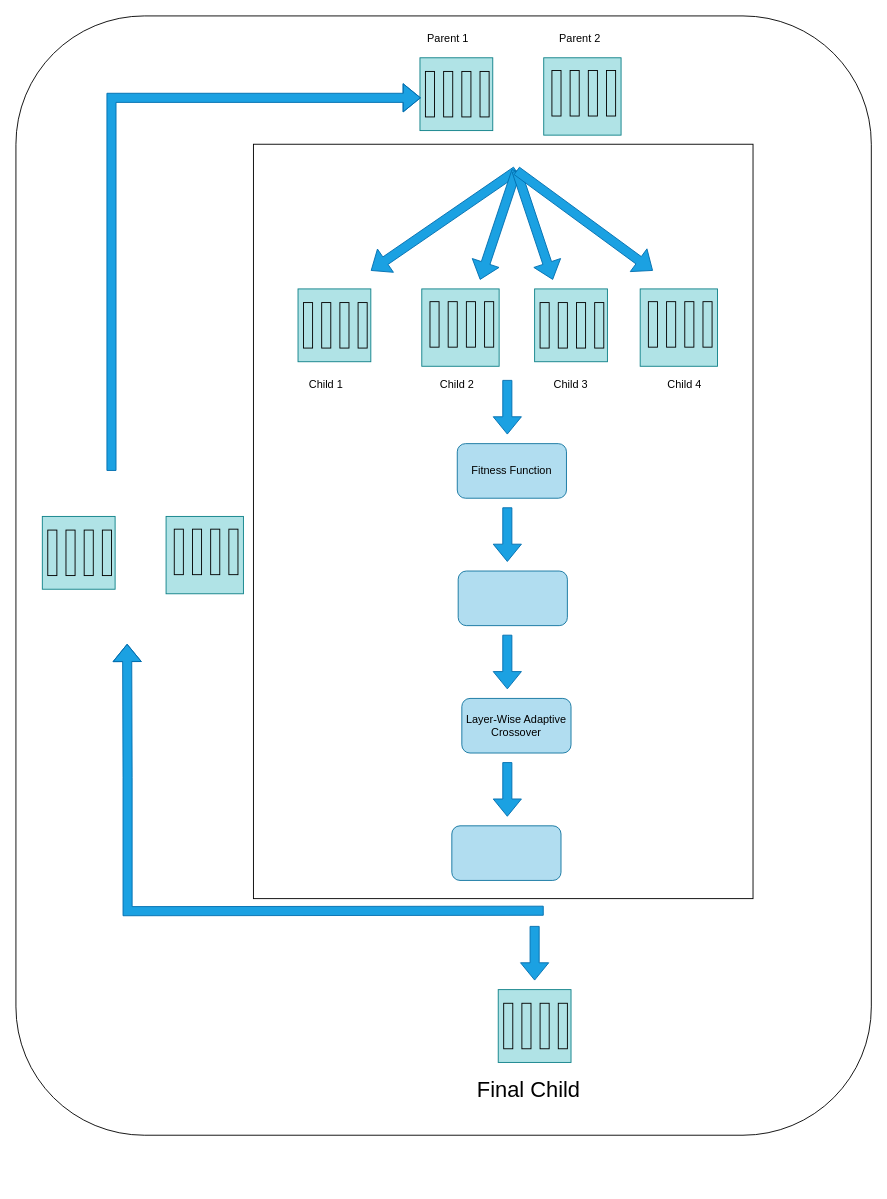
Some shapes in this 887 by 1199 pixel diagram are drawn without their labels. The shapes that lost their labels are listed below. From the top down, each one's box as (x1, y1, x2, y2) in pixels, then its label:
(457, 570, 567, 626): Tournament Selection
(451, 825, 561, 880): Depth-Wise Mutation
